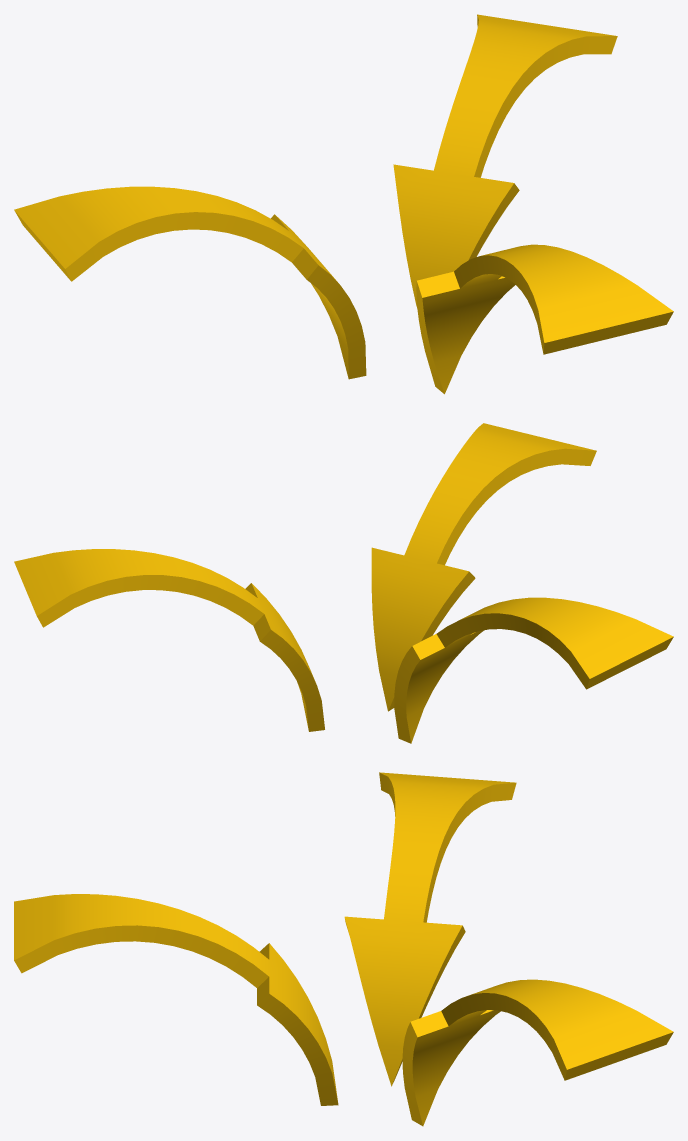
Rendered from target_arrow.FBX.
3 renders of one model, top to bottom at view 1: azimuth 30°, elevation 25°; view 2: azimuth 150°, elevation 25°; view 3: azimuth 270°, elevation 25°, orthographic. The views are drawn at different scales.
Parts seen in each view (by area): view 1: Line03; view 2: Line03; view 3: Line03.
Part boxes in pixels (x1=…): Line03: x1=14, y1=14, x2=673, y2=394; Line03: x1=14, y1=423, x2=673, y2=743; Line03: x1=14, y1=772, x2=673, y2=1126.
Bounding box in the file's own units: 97.97 × 29.98 × 91.86.
Materials: 1 (1 with a texture image).
